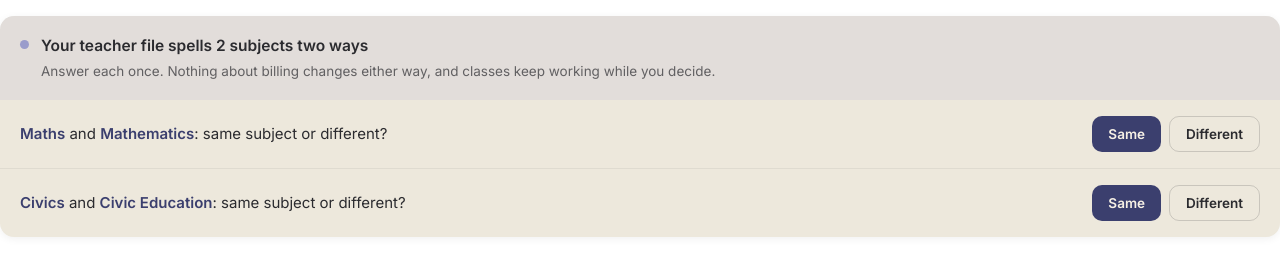
Test: subject spellings › settles Same as one subject, under the spelling the server keeps
Expected: the heading "Your teacher file spells 2 subjects two ways" is shown, [41,36,368,55]
Step 1. Click the button "Same" in the row of "Maths" → (1127,134), box [1092,116,1161,152]
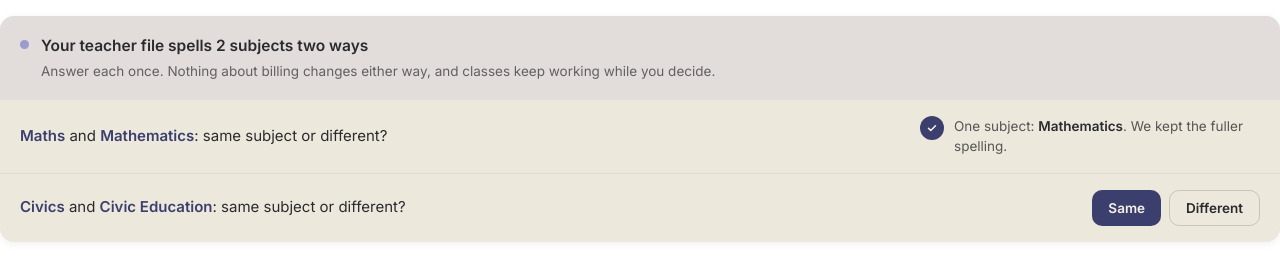
Expected: the list item "Maths" shows "One subject: Mathematics. We kept the fuller spelling.", [0,100,1279,174]
